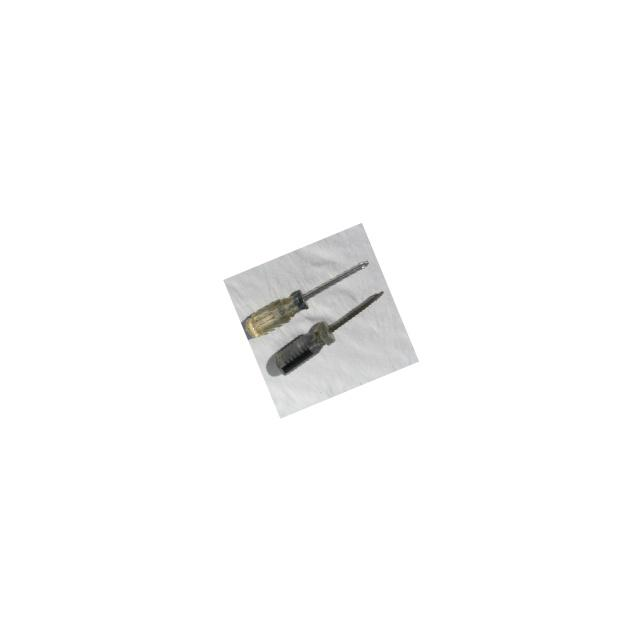screwdriver: (262, 288, 398, 378), (238, 256, 380, 341)
